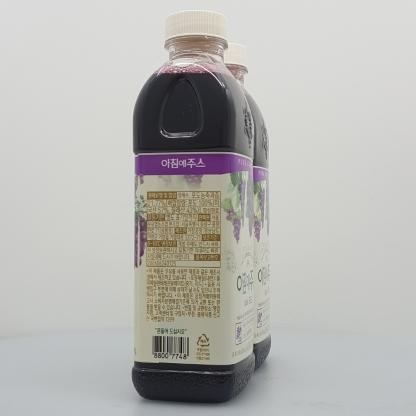------------950ML: (131, 9, 255, 404)
